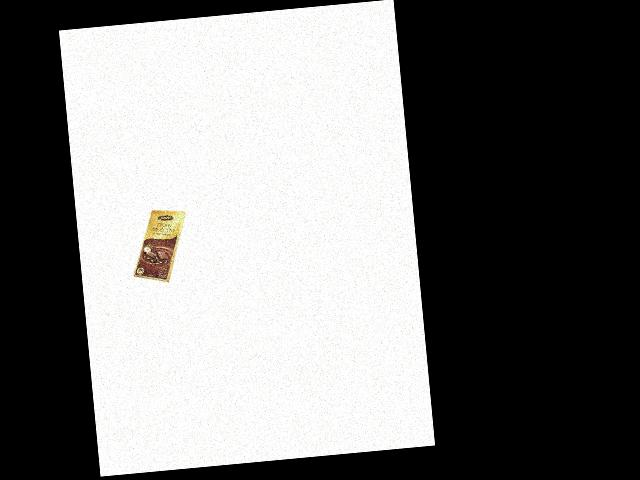chocolate: (127, 206, 194, 292)
